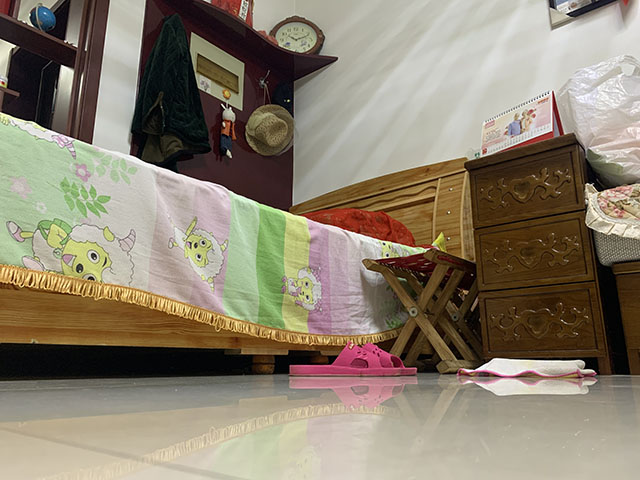bed: (1, 110, 480, 379)
slippers: (287, 340, 419, 377)
stool: (361, 247, 477, 376)
